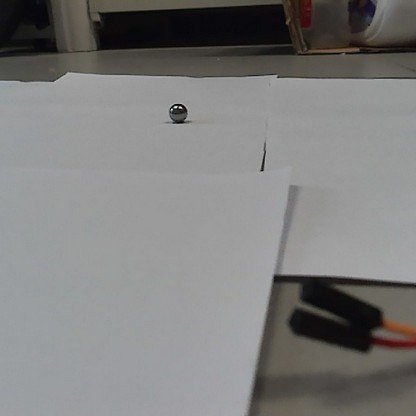ironball: (165, 101, 192, 123)
